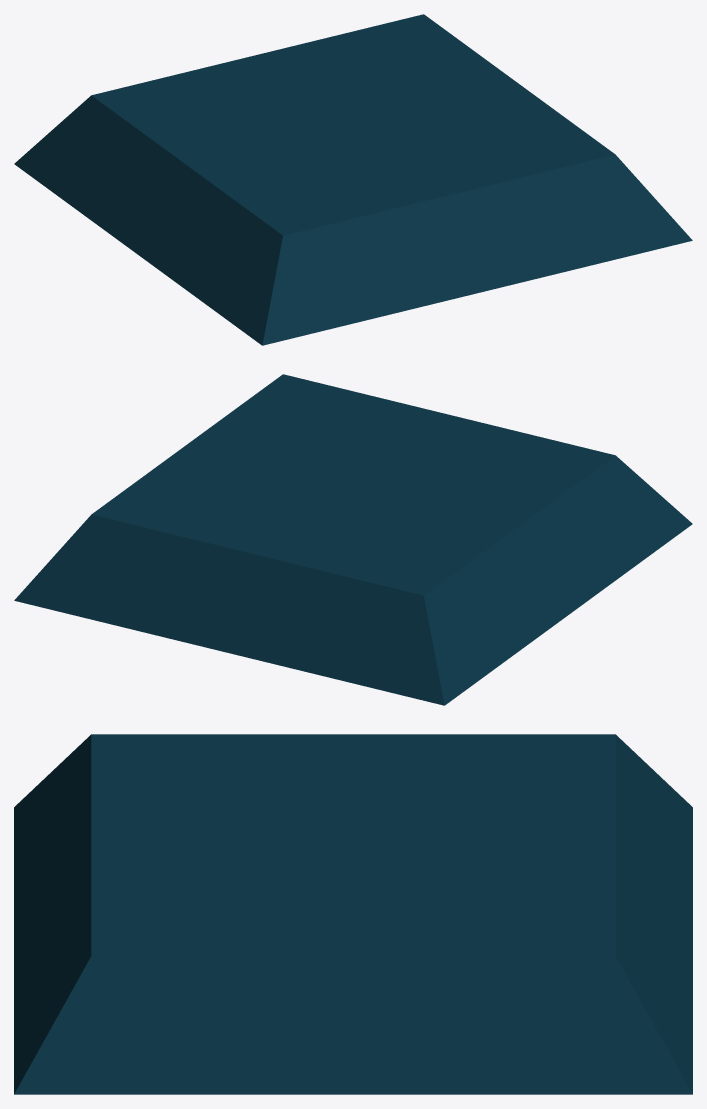
Rendered from Itr_Obj_Monitor_CRT_Base_03.FBX.
3 renders of one model, top to bottom at view 1: azimuth 30°, elevation 25°; view 2: azimuth 150°, elevation 25°; view 3: azimuth 270°, elevation 25°, orthographic. The views are drawn at different scales.
Visible parts, largest first — view 1: Itr_Obj_Monitor_CRT_Base_03; view 2: Itr_Obj_Monitor_CRT_Base_03; view 3: Itr_Obj_Monitor_CRT_Base_03.
Boxes of the visible parts, x1,y1,x2,y2 form: Itr_Obj_Monitor_CRT_Base_03: [14, 14, 692, 345]; Itr_Obj_Monitor_CRT_Base_03: [14, 374, 692, 705]; Itr_Obj_Monitor_CRT_Base_03: [14, 734, 692, 1094].
Size of the model in its own units: 12.64 by 2.17 by 12.62.
